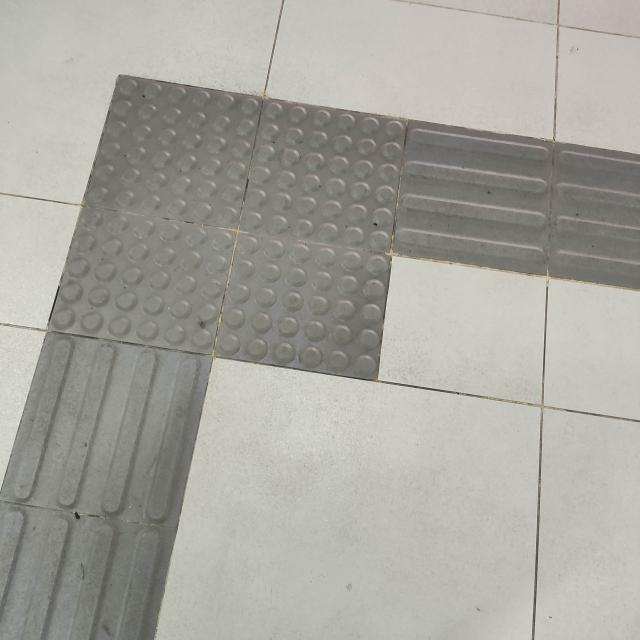kanan: (42, 58, 599, 430)
